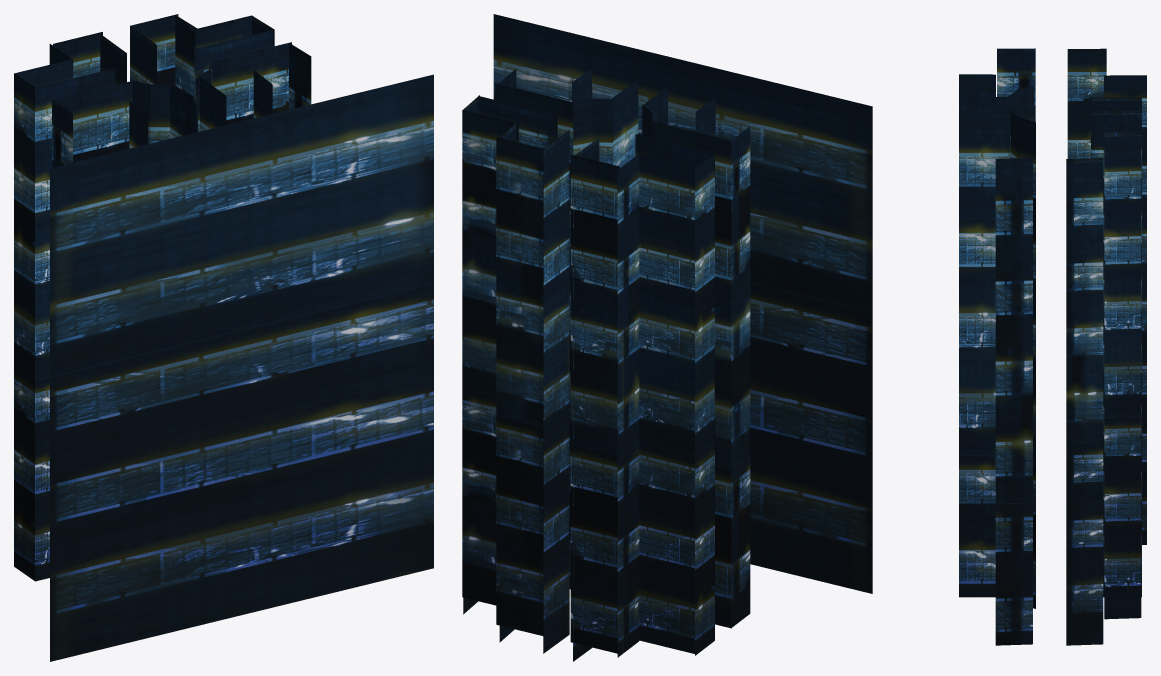
The model's file is Case_Jonathan.fbx.
The picture shows the model from 3 angles, left to right: view 1: azimuth 30°, elevation 25°; view 2: azimuth 150°, elevation 25°; view 3: azimuth 270°, elevation 25°; orthographic projection. The views are drawn at different scales.
Parts seen in each view (by area): view 1: Rocket_Case; view 2: Rocket_Case; view 3: Rocket_Case.
Boxes of the visible parts, x1,y1,x2,y2 form: Rocket_Case: [14, 14, 433, 661]; Rocket_Case: [462, 14, 872, 661]; Rocket_Case: [959, 48, 1146, 645].
Bounding box in the file's own units: 994 × 1269 × 579.
